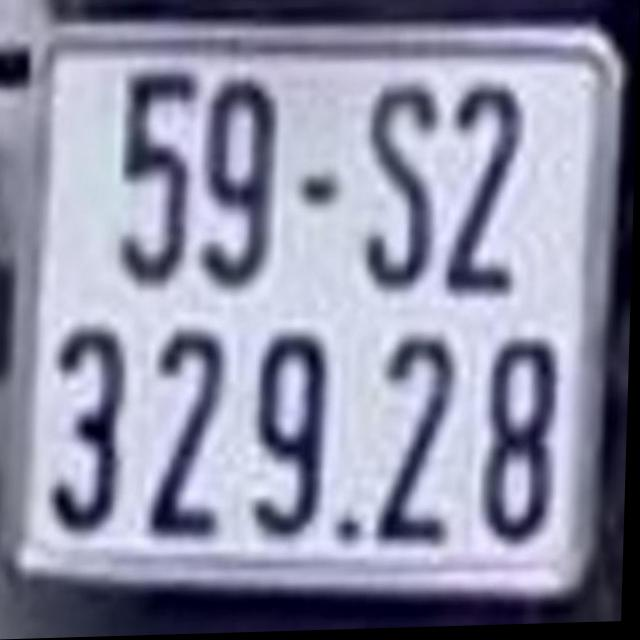2: (148, 327, 234, 546), (446, 88, 524, 300), (383, 327, 456, 544)
3: (53, 325, 127, 529)
5: (114, 71, 192, 290)
8: (488, 343, 560, 545)
9: (257, 338, 332, 543), (205, 74, 278, 284)
S: (368, 84, 438, 292)
